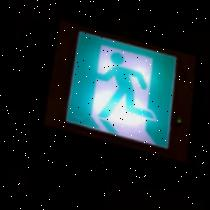emergency_exit: (44, 25, 197, 164)
